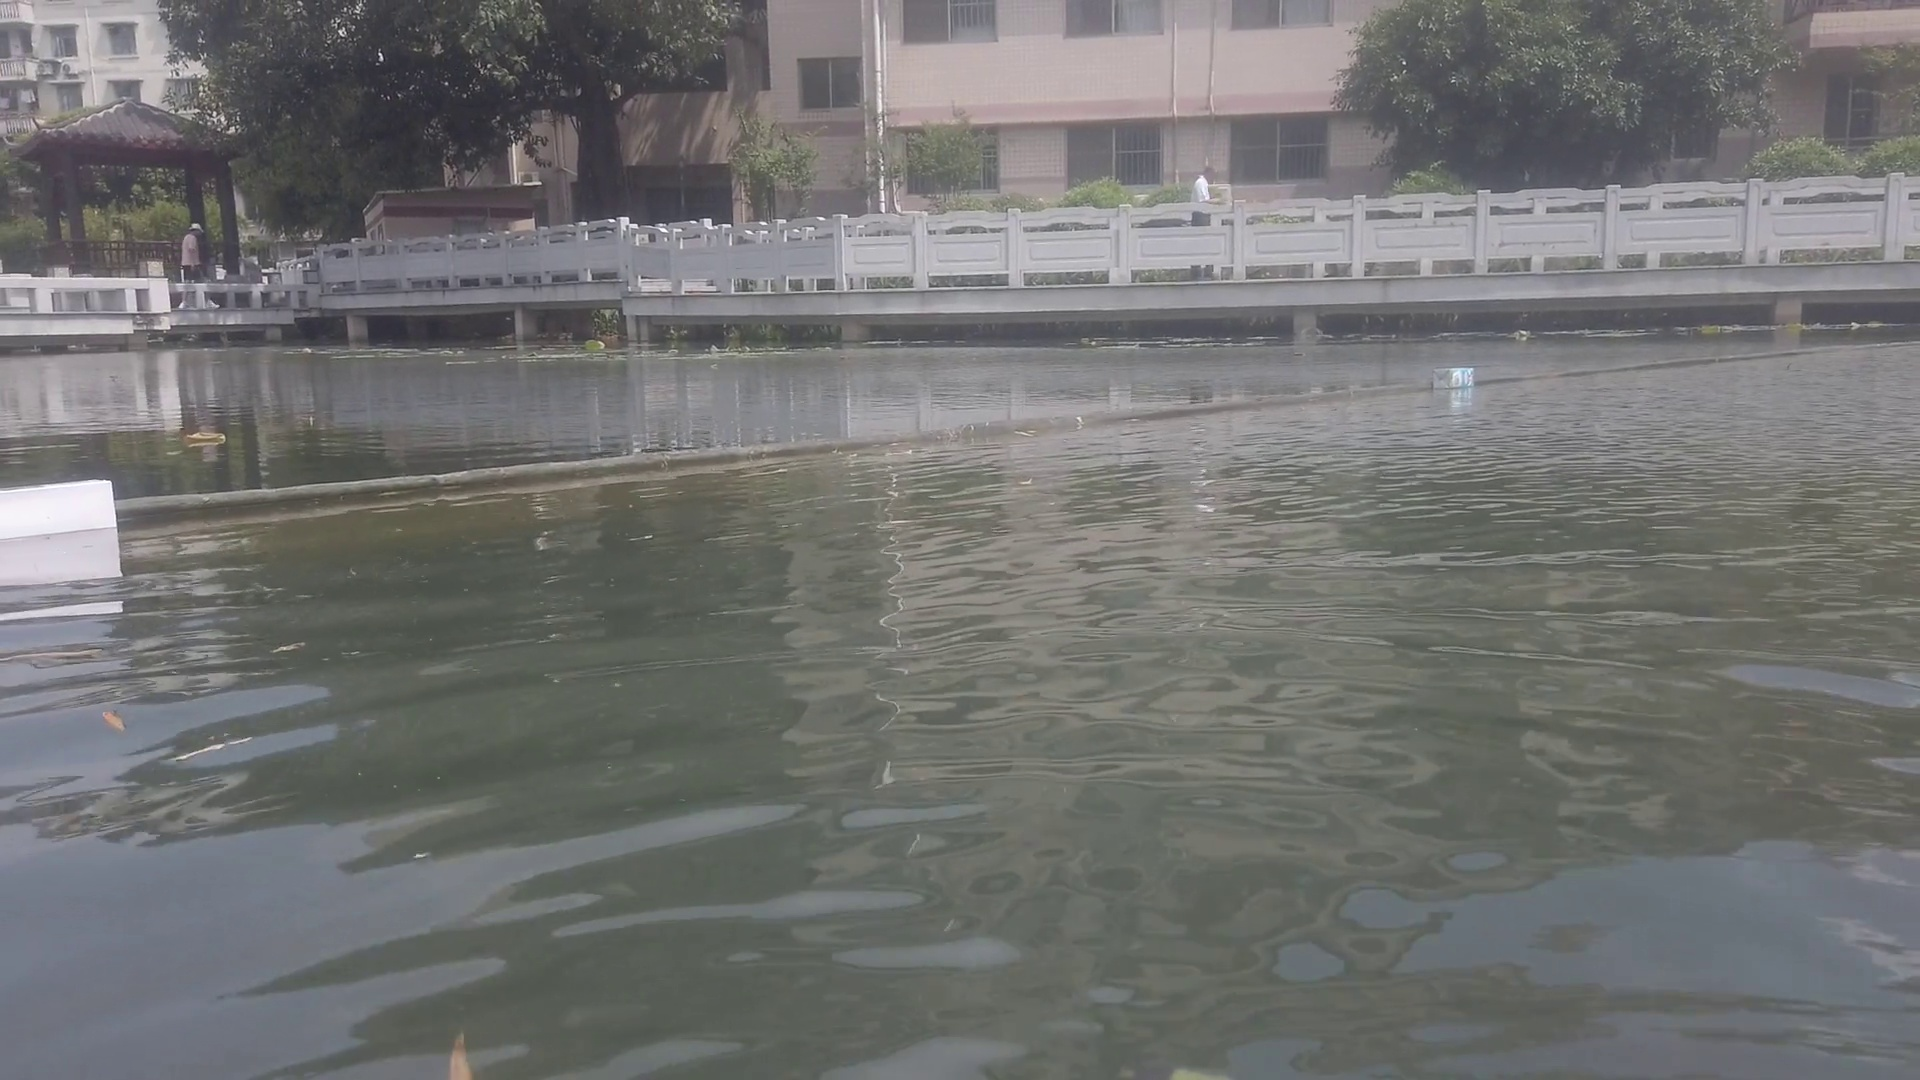carton: (1428, 367, 1480, 393)
